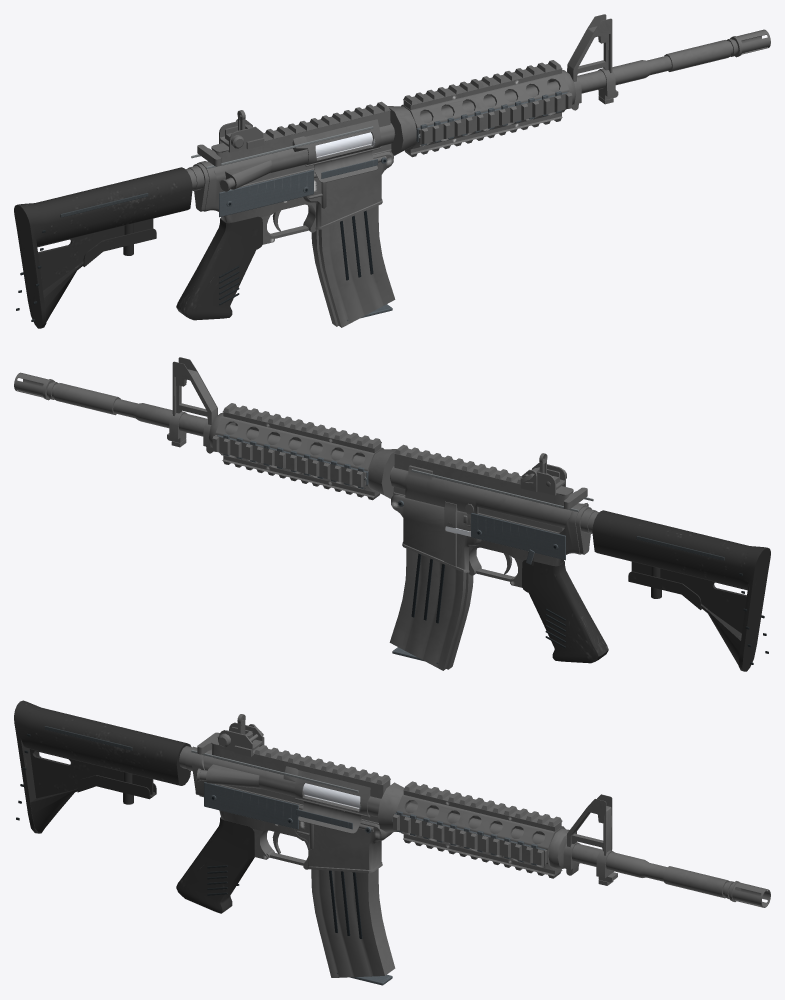
The model's file is m4-detail116.glb.
3 views of the same model, one above another, from view 1: azimuth 30°, elevation 25°; view 2: azimuth 150°, elevation 25°; view 3: azimuth 330°, elevation 25° (orthographic).
Visible parts, largest first — view 1: ZONE116_M4_licensed_source_with_authored_detail; view 2: ZONE116_M4_licensed_source_with_authored_detail; view 3: ZONE116_M4_licensed_source_with_authored_detail.
Part boxes in pixels (left/top/right/bottom): ZONE116_M4_licensed_source_with_authored_detail: left=14, top=14, right=770, bottom=328; ZONE116_M4_licensed_source_with_authored_detail: left=14, top=357, right=770, bottom=671; ZONE116_M4_licensed_source_with_authored_detail: left=14, top=700, right=770, bottom=985.
Size of the model in its own units: 0.8588 by 0.2663 by 0.0636.
Materials: 6 (4 with a texture image).
